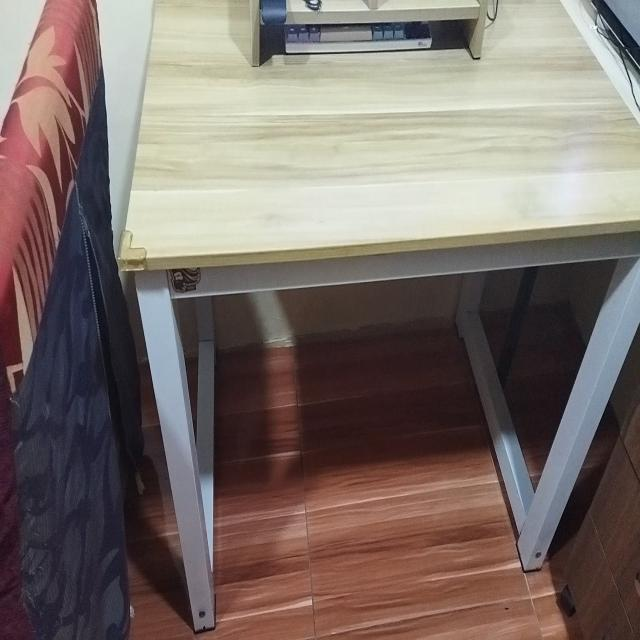table: (112, 0, 640, 625)
